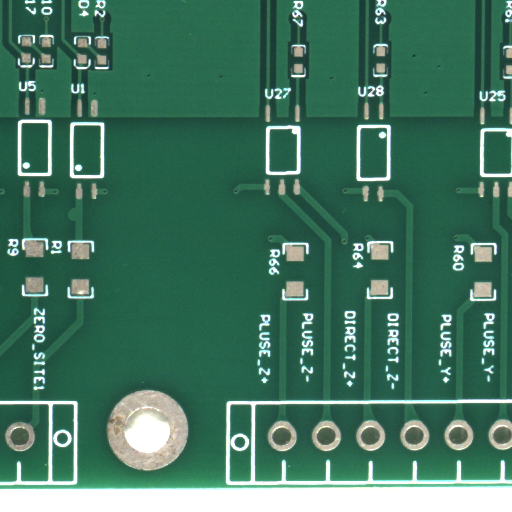Spur: (72, 213, 82, 227)
